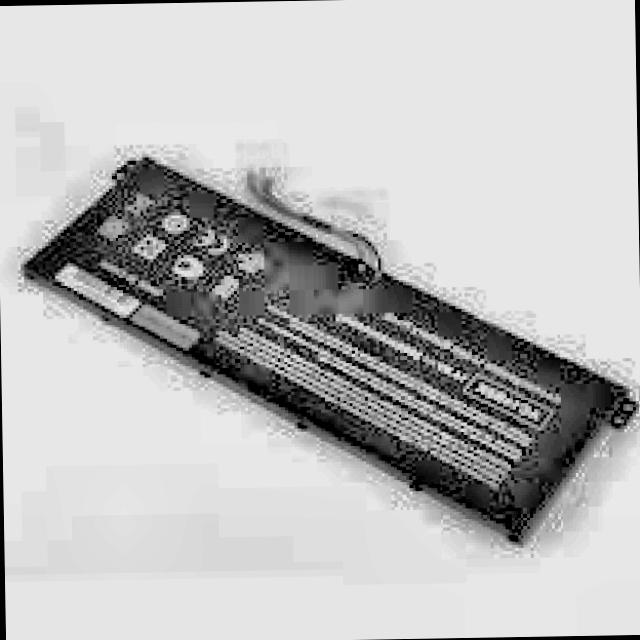Battery: (22, 148, 616, 546)
